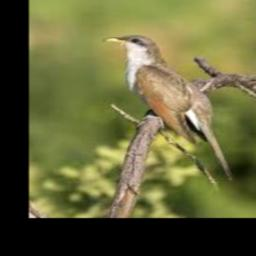Cuckoo: (103, 34, 234, 178)
